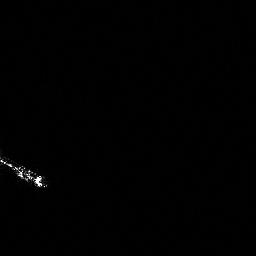ship: (1, 149, 52, 192)
